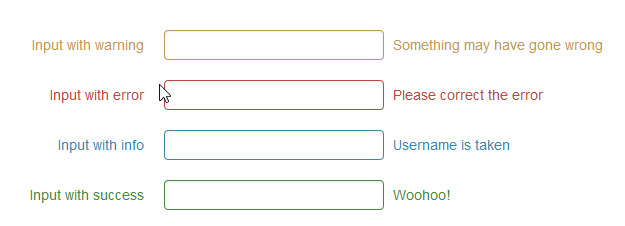error_field: (164, 79, 384, 111)
error_message: (393, 88, 544, 101), (49, 89, 144, 102)
